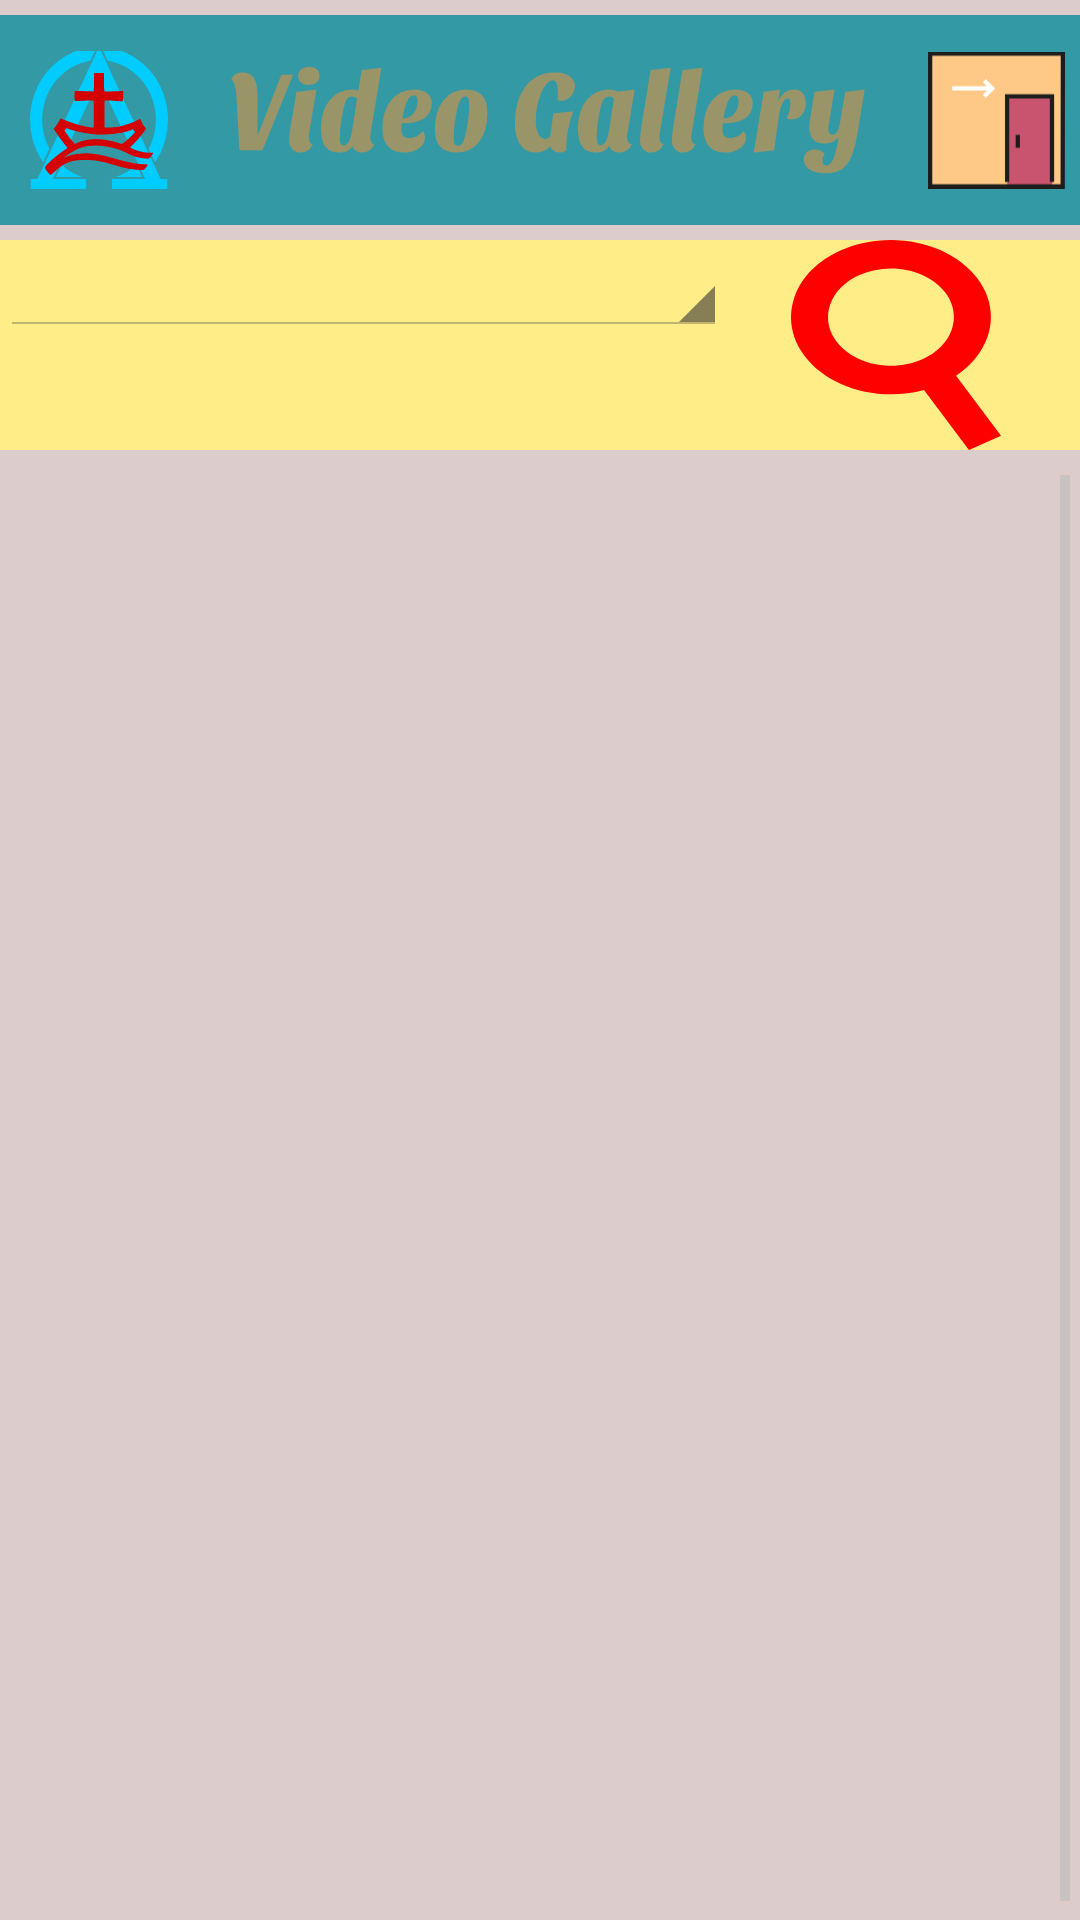

Icons on this 1080×1920 Android screen, each with the point to tap as (x=x, y=y):
exit: (x=996, y=120)
search: (x=896, y=345)
